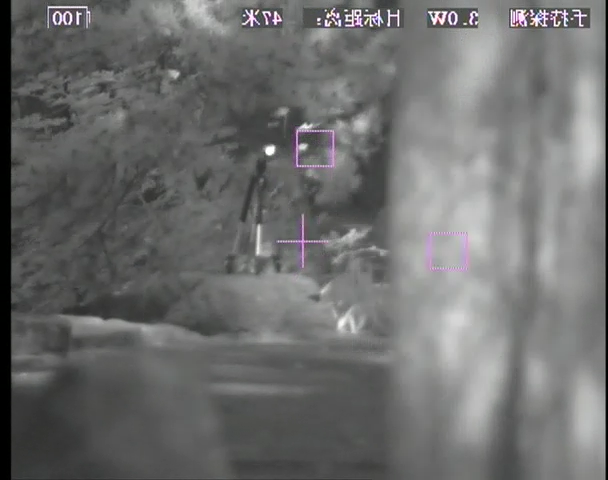my: (263, 144, 276, 157)
